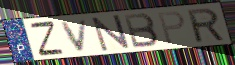B: (122, 12, 161, 49)
N: (90, 13, 132, 53)
P: (156, 10, 187, 46)
R: (185, 6, 227, 44)
V: (59, 18, 90, 53)
Z: (28, 19, 66, 57)
